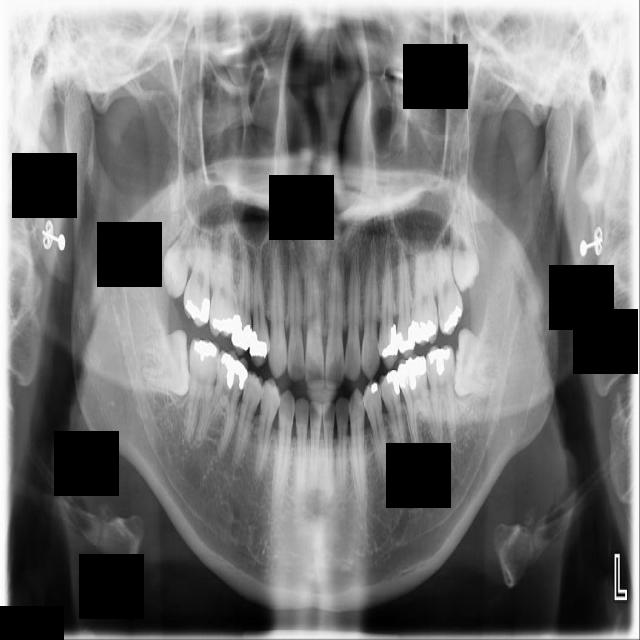3M ESPE Implant: (154, 194, 209, 301)
52: (388, 347, 437, 395), (185, 336, 225, 382), (182, 274, 211, 329), (216, 348, 249, 395), (436, 286, 465, 337), (208, 295, 240, 341), (411, 304, 440, 348), (426, 344, 455, 382), (376, 326, 399, 371), (248, 326, 270, 370), (231, 312, 252, 358), (395, 318, 418, 360), (376, 366, 402, 401), (362, 380, 381, 415)
73: (620, 612, 631, 626)
BioHorizons Implant: (434, 219, 465, 337)
BioLife Implant: (450, 184, 480, 294)
Biomet 3i Implant: (448, 327, 507, 403)
Blue Sky Bio Implant: (425, 341, 458, 450)
Caries: (182, 209, 213, 329)
Implant: (182, 335, 221, 445)
Keystone Dental Implant: (137, 329, 193, 400)
